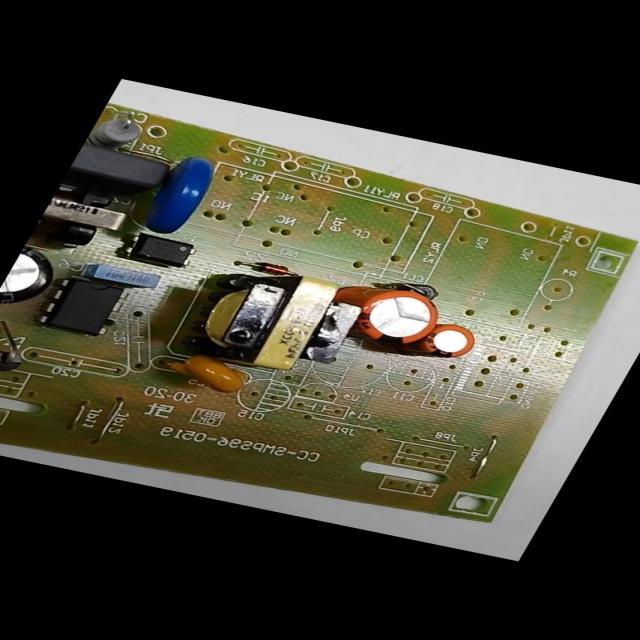Cap1: (346, 284, 447, 348)
Cap2: (417, 321, 480, 361)
Cap3: (0, 246, 64, 306)
MOSFET: (34, 276, 132, 338)
Mov: (144, 153, 225, 235)
Resistor: (86, 110, 148, 150)
Transformer: (172, 260, 371, 379), (31, 179, 132, 250)
